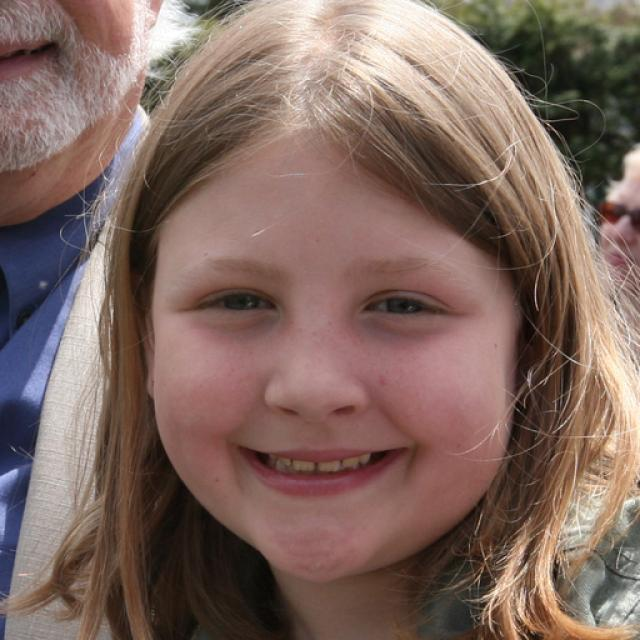happy: (150, 124, 520, 586)
